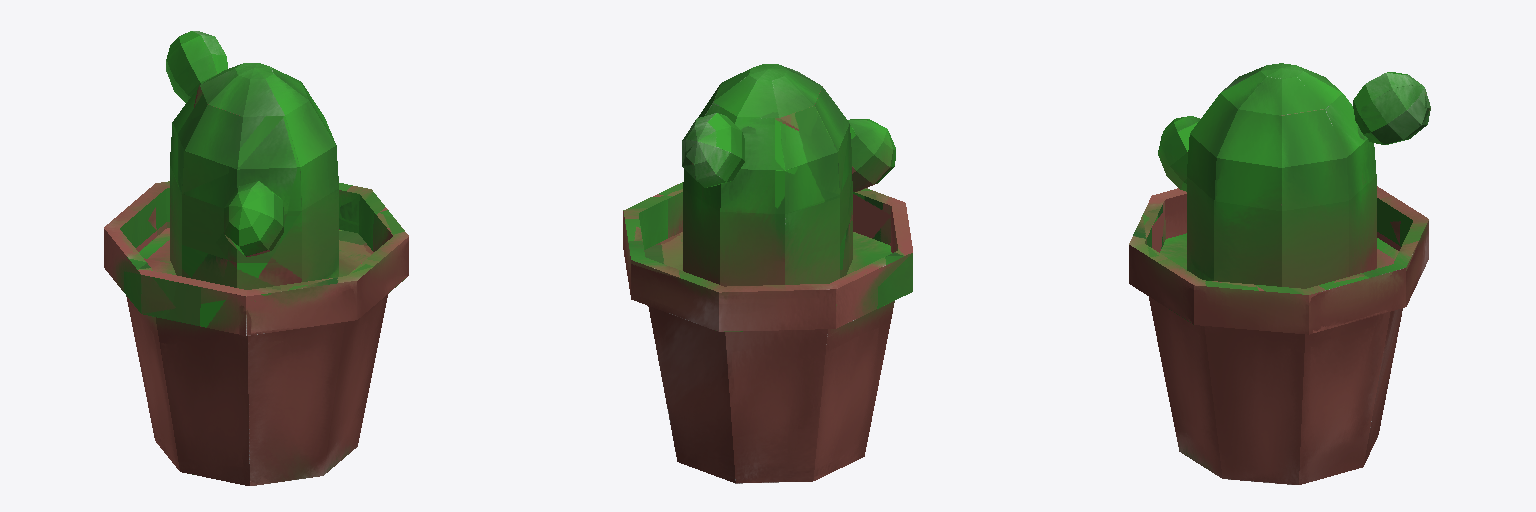
3 views of the same model, side by side, from view 1: azimuth 30°, elevation 25°; view 2: azimuth 150°, elevation 25°; view 3: azimuth 270°, elevation 25° (orthographic).
Parts seen in each view (by area): view 1: Cactus_Circle.002_None.009_None.009; view 2: Cactus_Circle.002_None.009_None.009; view 3: Cactus_Circle.002_None.009_None.009.
Boxes of the visible parts, <box> form: Cactus_Circle.002_None.009_None.009: <box>104,31,408,485</box>; Cactus_Circle.002_None.009_None.009: <box>623,64,912,483</box>; Cactus_Circle.002_None.009_None.009: <box>1129,63,1430,484</box>.
Size of the model in its own units: 0.2146 by 0.2954 by 0.2159.
Materials: 1 (1 with a texture image).